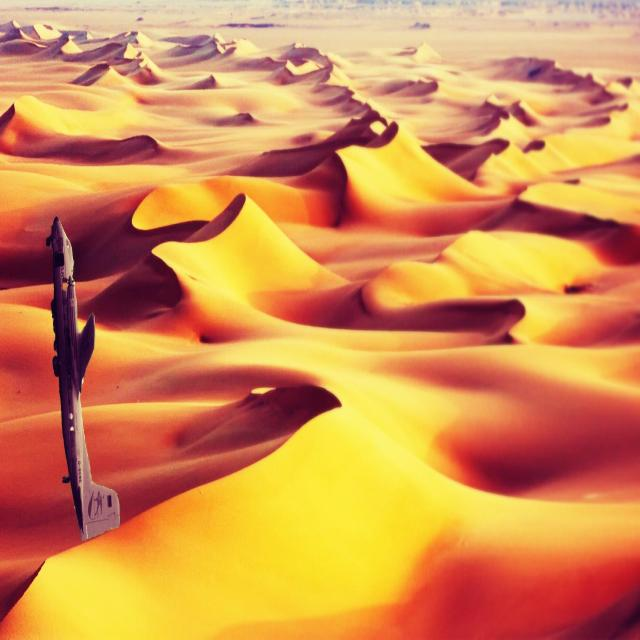airplane: (45, 214, 120, 542)
